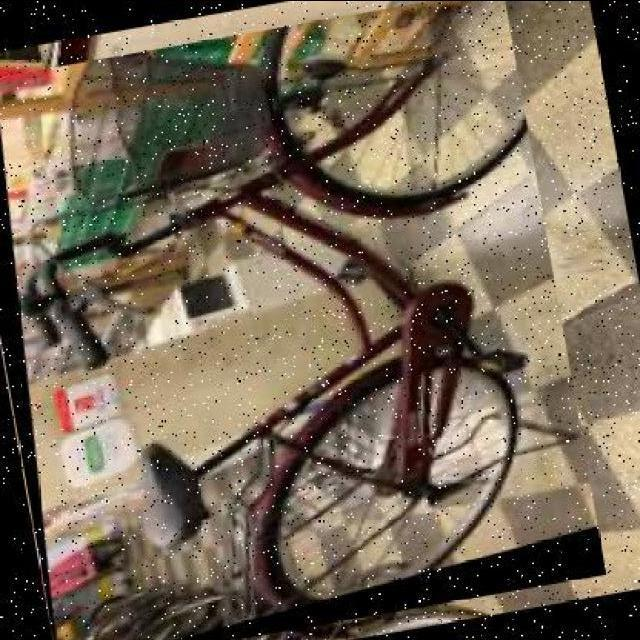bicycle: (1, 3, 608, 640)
